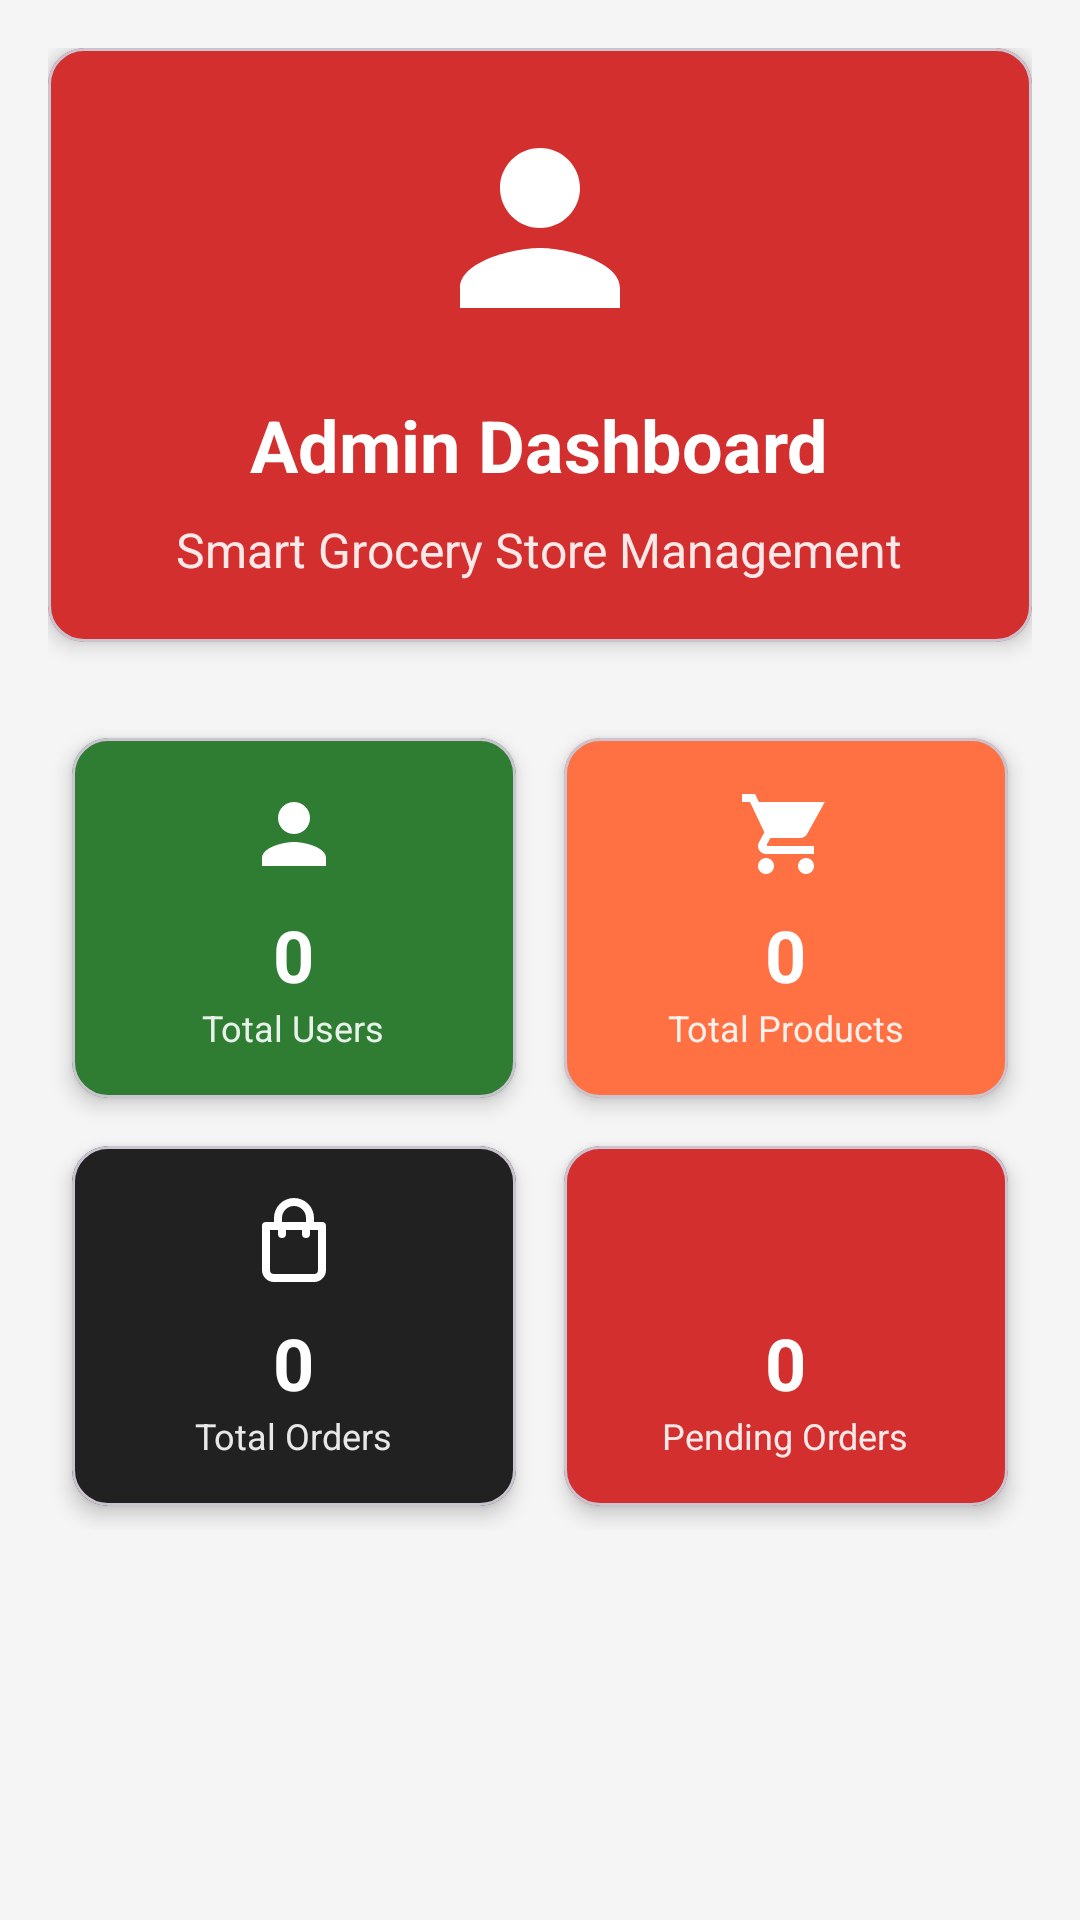

Icon click points for this 1080 × 1920 phone screenshot, format (x,y):
person: (540,228), (294,834)
shopping bag: (294,1240)
shopping cart: (783,834)
